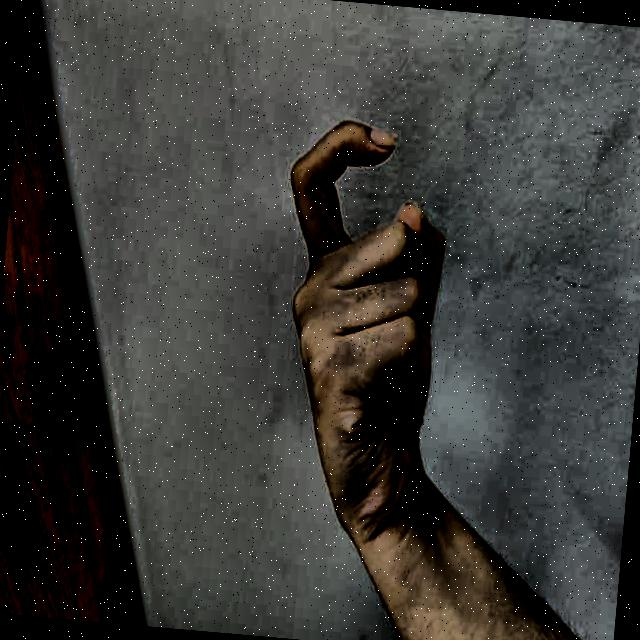E: (224, 61, 546, 544)
